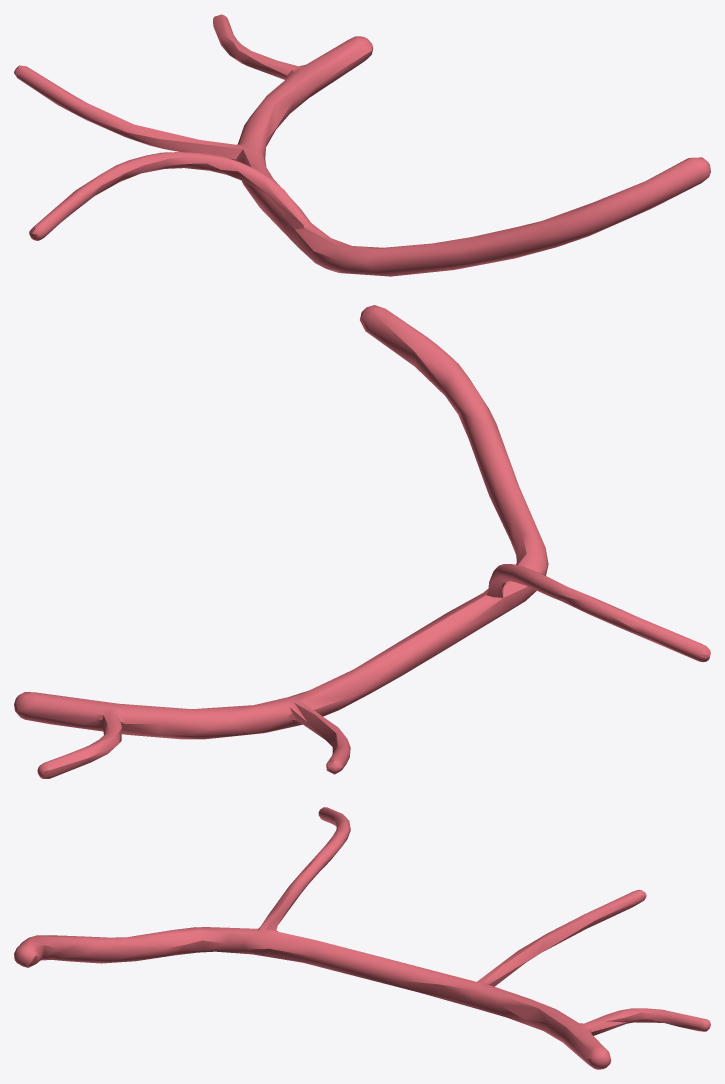
File: fma52210_fj5120.glb
3 renders of one model, top to bottom at view 1: azimuth 30°, elevation 25°; view 2: azimuth 150°, elevation 25°; view 3: azimuth 270°, elevation 25°, orthographic. The views are drawn at different scales.
Visible parts, largest first — view 1: FMA52210_FJ5120; view 2: FMA52210_FJ5120; view 3: FMA52210_FJ5120.
Boxes of the visible parts, <box> form: FMA52210_FJ5120: <box>14,14,710,276</box>; FMA52210_FJ5120: <box>14,305,710,778</box>; FMA52210_FJ5120: <box>14,807,710,1069</box>.
Bounding box in the file's own units: 0.034 × 0.0104 × 0.0473.
